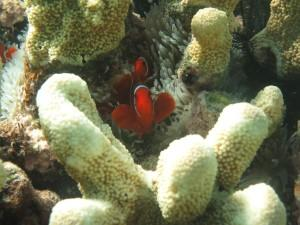bleached_corals: (36, 74, 286, 225)
